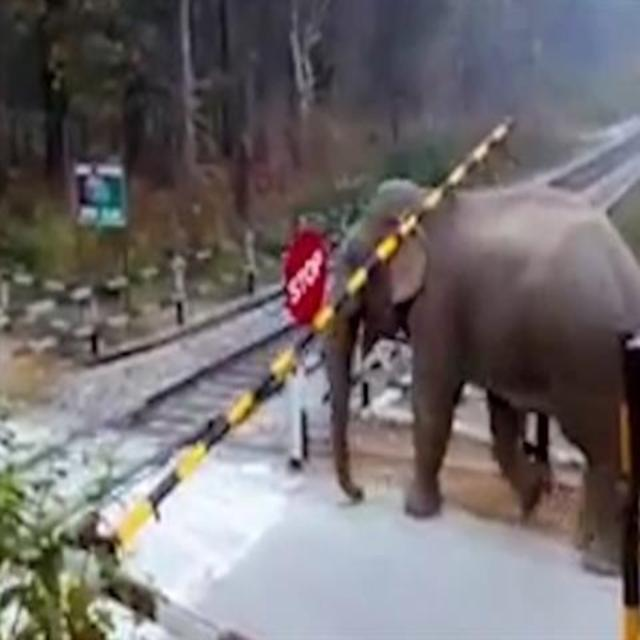Elephant: (315, 168, 640, 536)
